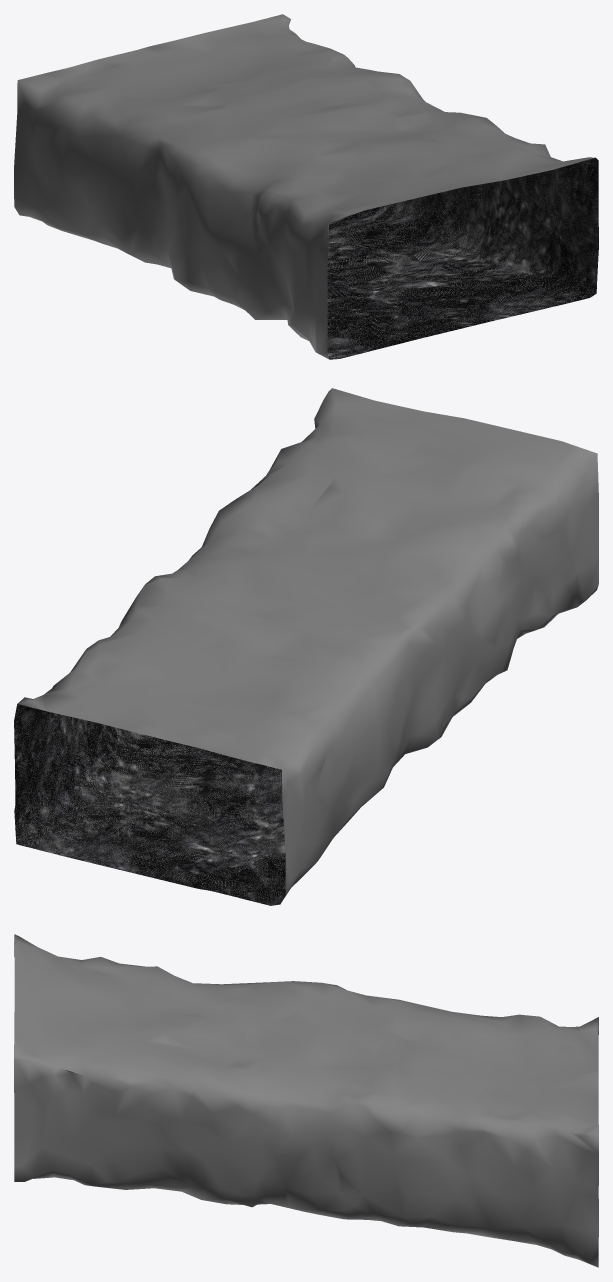
3 renders of one model, top to bottom at view 1: azimuth 30°, elevation 25°; view 2: azimuth 150°, elevation 25°; view 3: azimuth 270°, elevation 25°, orthographic. The views are drawn at different scales.
Visible parts, largest first — view 1: tunnel5; view 2: tunnel5; view 3: tunnel5.
Part boxes in pixels (x1,y1,x2,y2): tunnel5: (14,14,598,359); tunnel5: (14,388,598,905); tunnel5: (14,934,598,1267).
Bounding box in the file's own units: 196 × 390 × 159.
